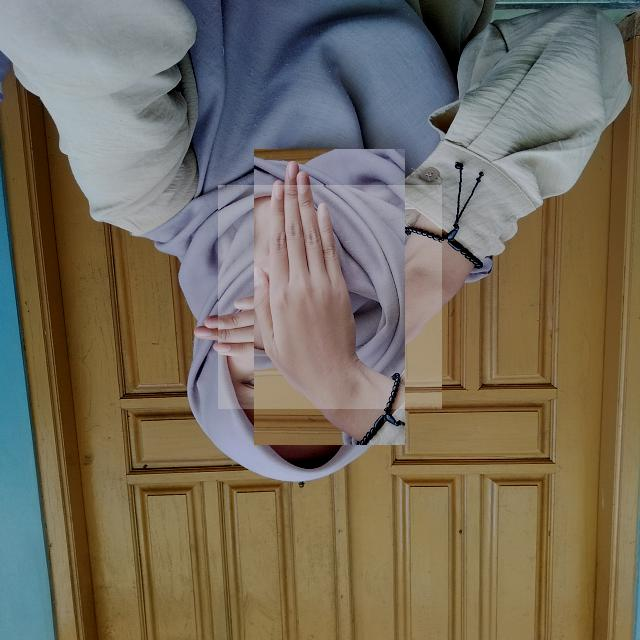buruk: (218, 184, 442, 408)
